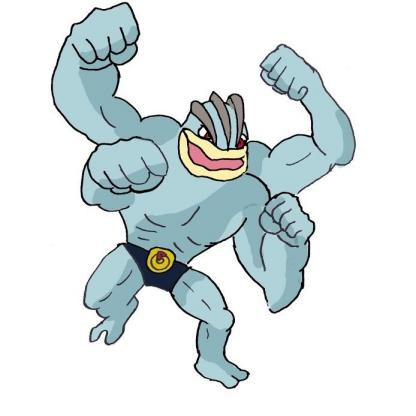Machamp: (36, 1, 357, 399)
